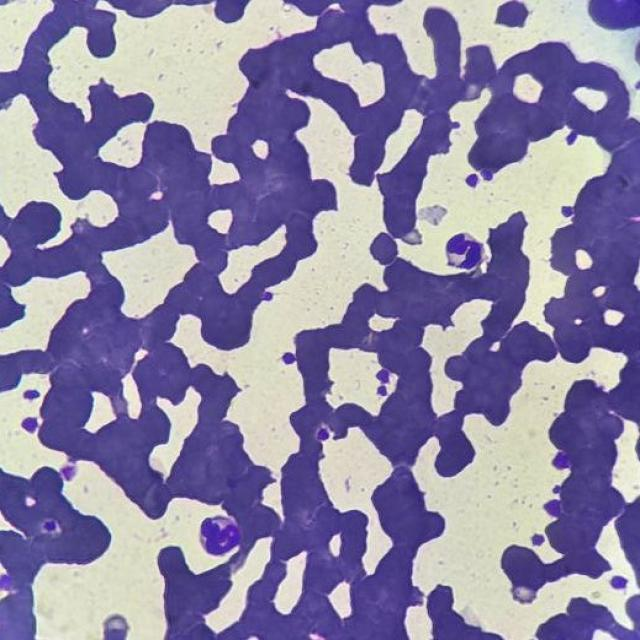Neutrofilo: (440, 227, 492, 273), (196, 515, 247, 558)
